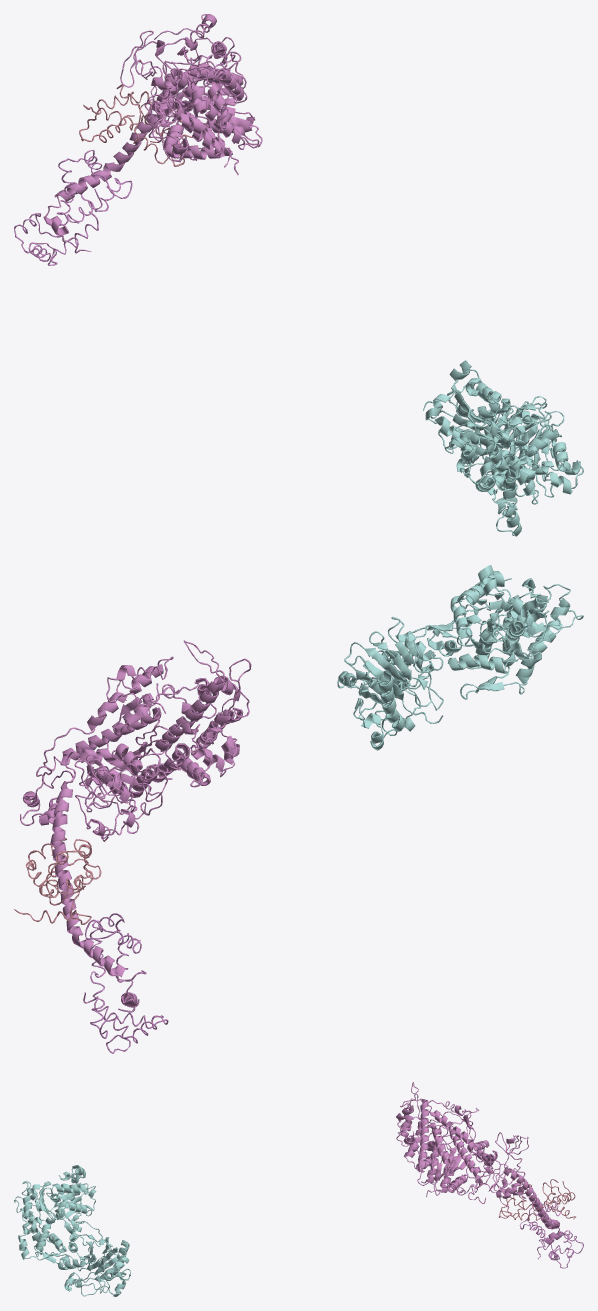
The model's file is actin-myosin-ribbon-lod1-meshopt.glb.
3 renders of one model, top to bottom at view 1: azimuth 30°, elevation 25°; view 2: azimuth 150°, elevation 25°; view 3: azimuth 270°, elevation 25°, orthographic. The views are drawn at different scales.
Visible parts, largest first — view 1: 2MYS, 1ATN; view 2: 2MYS, 1ATN; view 3: 2MYS, 1ATN.
Boxes of the visible parts, box(x1,y1,x2,y2) form: 2MYS: box(14, 14, 262, 265); 1ATN: box(423, 360, 583, 536); 2MYS: box(14, 640, 251, 1053); 1ATN: box(337, 565, 583, 750); 2MYS: box(396, 1082, 583, 1268); 1ATN: box(14, 1165, 130, 1296).
Size of the model in its own units: 0.8493 by 1.28 by 3.57.
